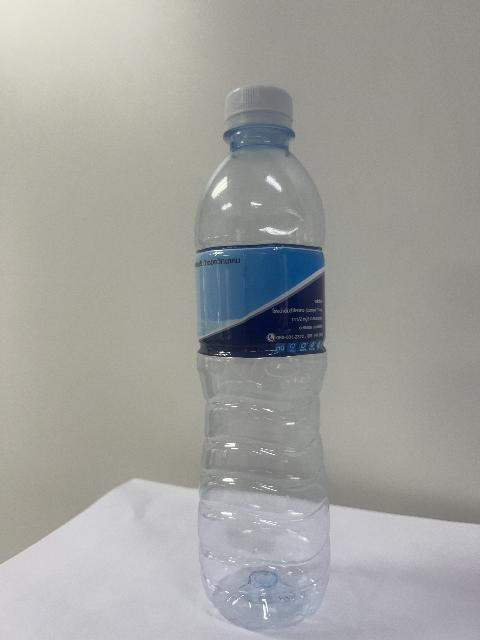bottle: (196, 86, 329, 629)
